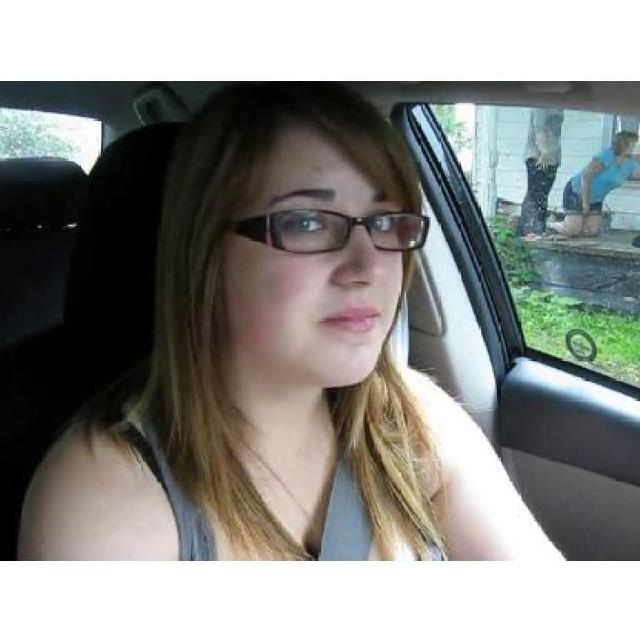attentif: (214, 80, 429, 388)
